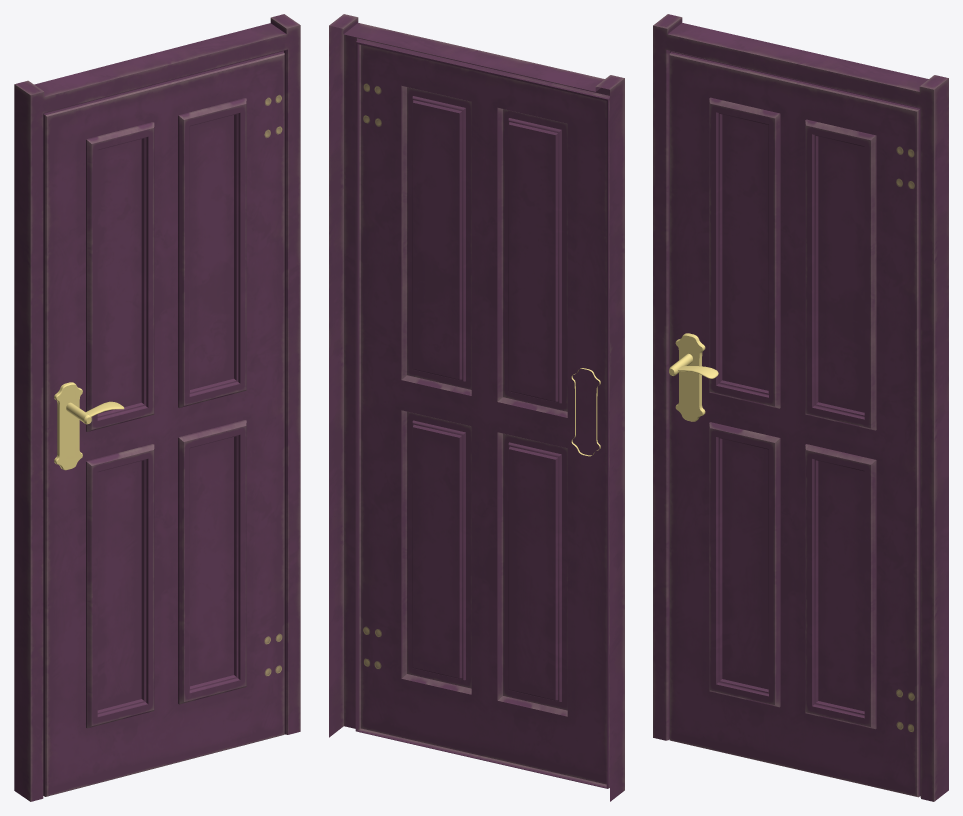
Rendered from coraline2.gltf.
3 renders of one model, left to right at view 1: azimuth 30°, elevation 25°; view 2: azimuth 150°, elevation 25°; view 3: azimuth 330°, elevation 25°, orthographic.
Parts seen in each view (by area): view 1: Door; view 2: Door; view 3: Door.
Part boxes in pixels (left/top/right/bottom): Door: left=14, top=14, right=300, bottom=801; Door: left=329, top=14, right=624, bottom=801; Door: left=653, top=14, right=948, bottom=801.
Bounding box in the file's own units: 14.14 × 34.69 × 3.56.
1 material, 1 textured.
